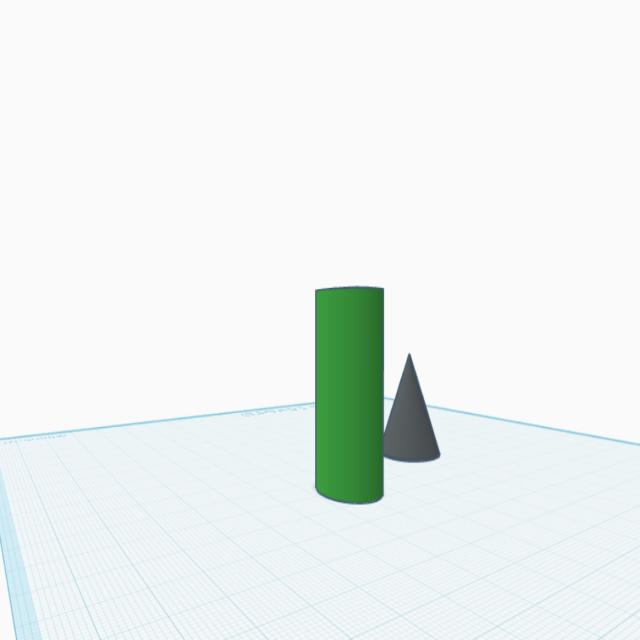cone: (380, 349, 442, 468)
